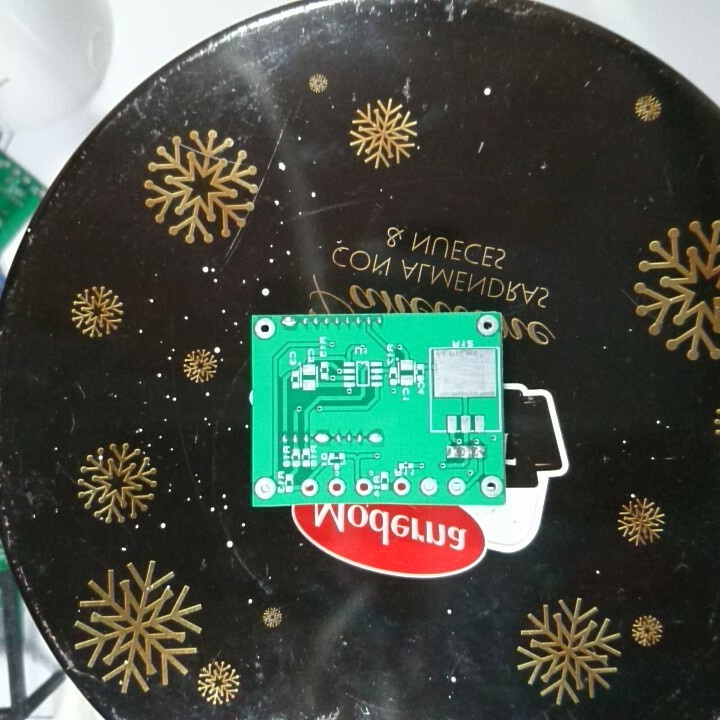F: (252, 315, 277, 341), (474, 313, 499, 338), (254, 475, 277, 501), (479, 475, 502, 500), (417, 475, 440, 497), (326, 475, 347, 498), (445, 475, 466, 497), (353, 475, 373, 498), (392, 475, 411, 498), (299, 477, 319, 498)
P: (365, 429, 386, 446), (279, 315, 298, 332), (313, 429, 331, 446)
